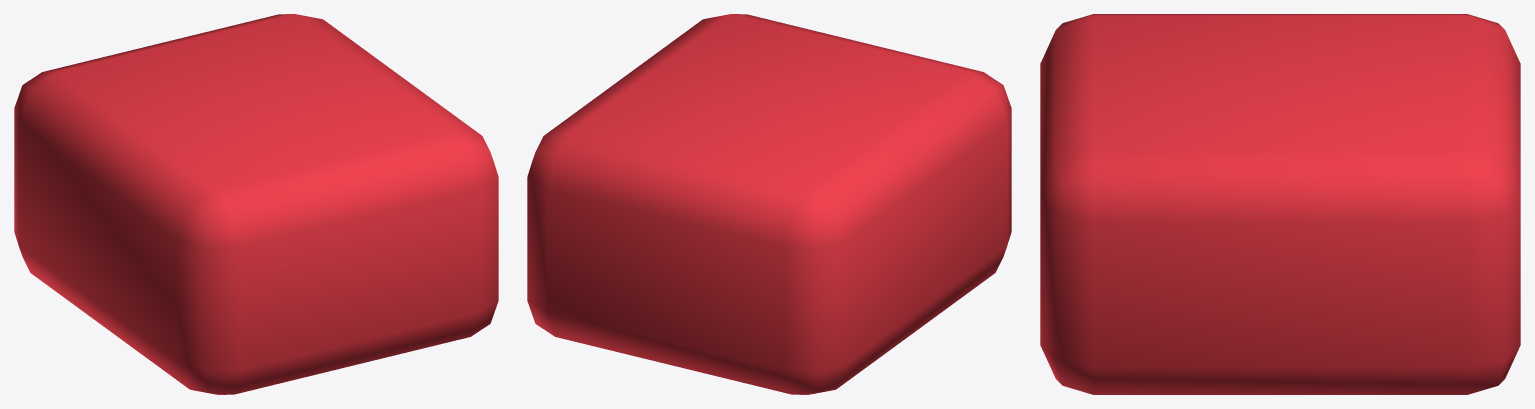
Rendered from GEO_GT3_SUPERCAR_Mirror_Housing_R.glb.
The picture shows the model from 3 angles, left to right: view 1: azimuth 30°, elevation 25°; view 2: azimuth 150°, elevation 25°; view 3: azimuth 270°, elevation 25°; orthographic projection. The views are drawn at different scales.
Visible parts, largest first — view 1: GEO_GT3_SUPERCAR_Mirror_Housing_R; view 2: GEO_GT3_SUPERCAR_Mirror_Housing_R; view 3: GEO_GT3_SUPERCAR_Mirror_Housing_R.
Boxes of the visible parts, <box> form: GEO_GT3_SUPERCAR_Mirror_Housing_R: <box>14,14,498,394</box>; GEO_GT3_SUPERCAR_Mirror_Housing_R: <box>527,14,1011,394</box>; GEO_GT3_SUPERCAR_Mirror_Housing_R: <box>1040,14,1520,394</box>.
Bounding box in the file's own units: 0.16 × 0.1 × 0.18.
